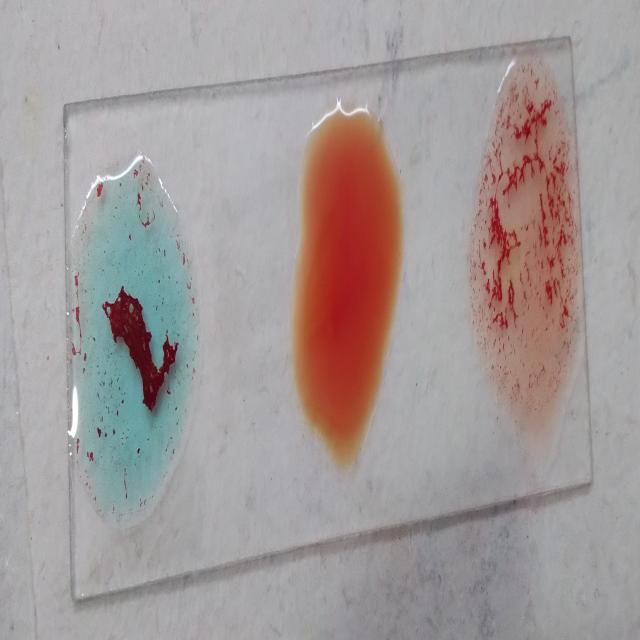A: (69, 161, 194, 517)
D: (482, 77, 574, 430)
